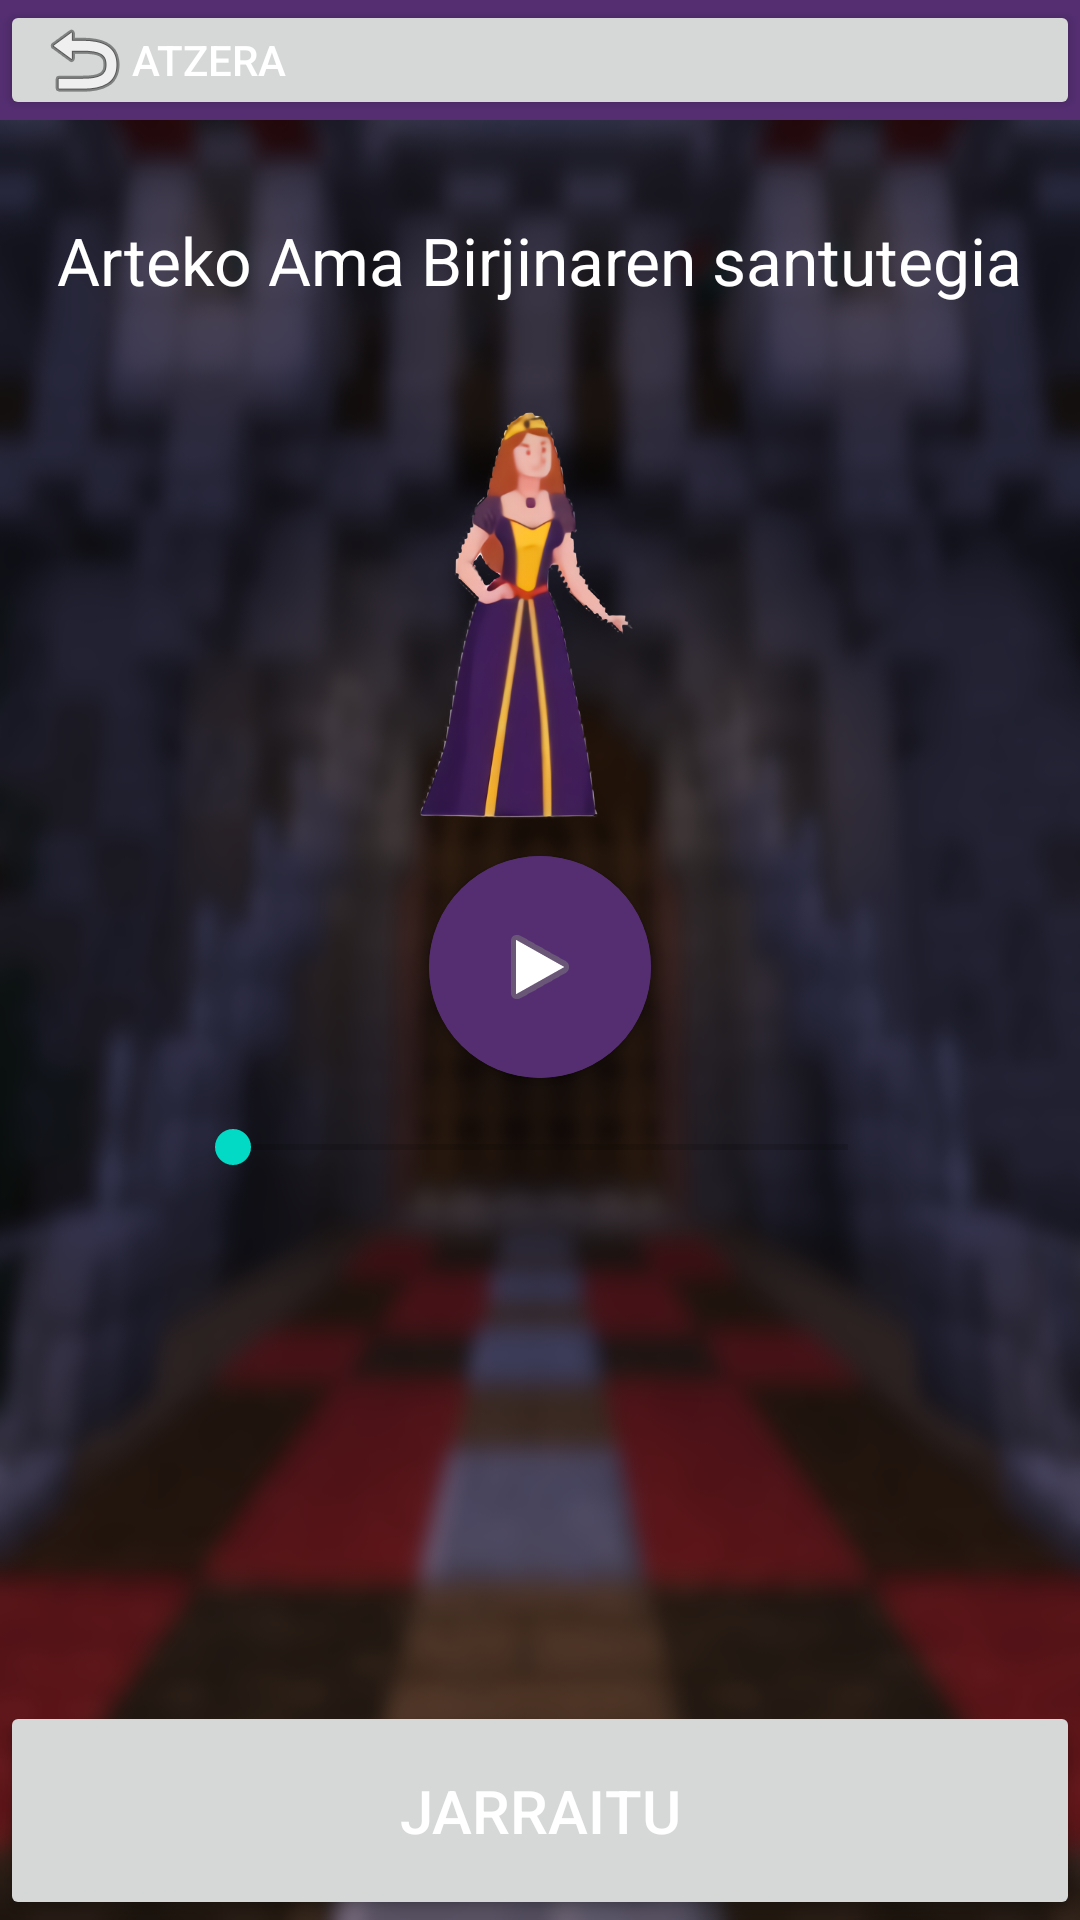

Where to tap for icons on this 1080×1920 app screen, as [x,y]:
play: [540,967]
